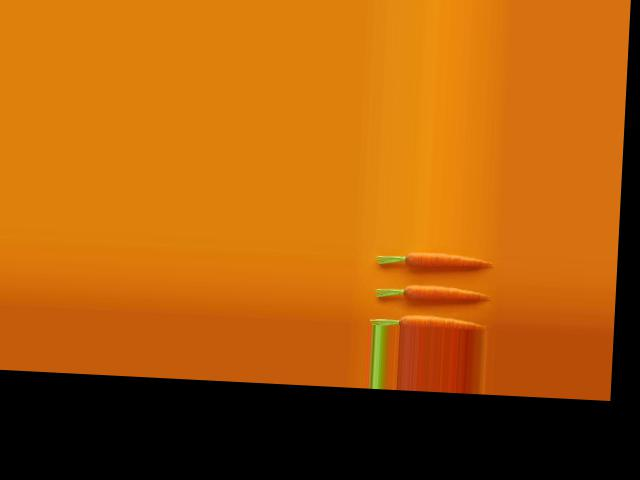carrot: (368, 312, 472, 329)
